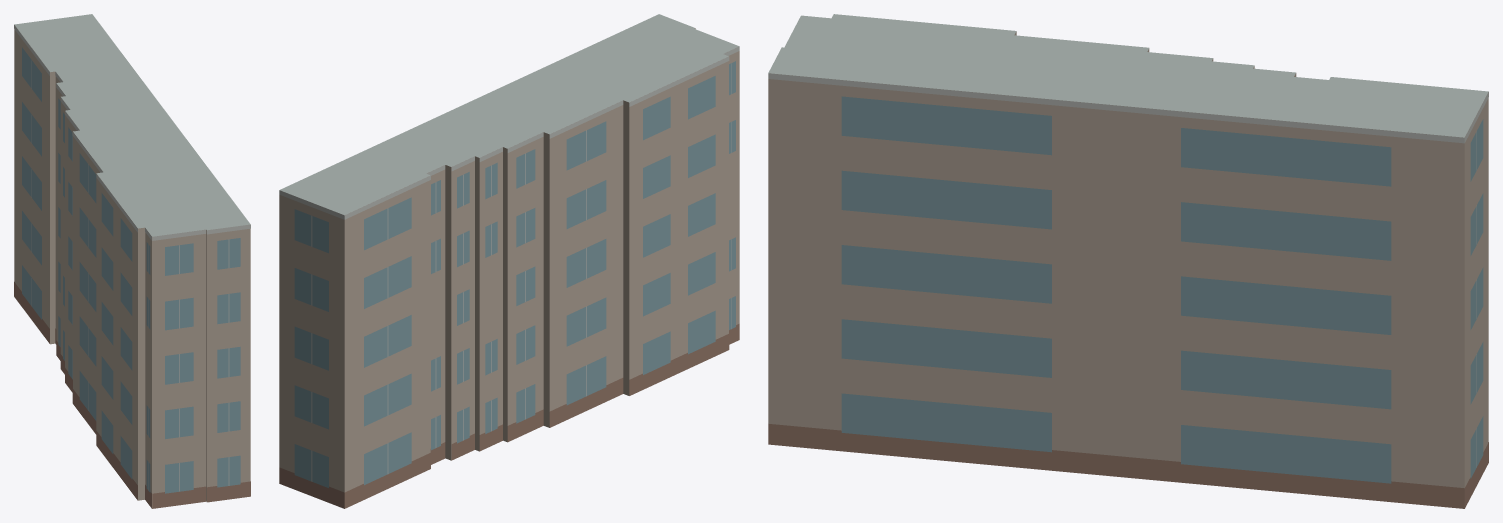
The model's file is survey-upis-32619796.glb.
3 renders of one model, left to right at view 1: azimuth 30°, elevation 25°; view 2: azimuth 150°, elevation 25°; view 3: azimuth 270°, elevation 25°, orthographic. The views are drawn at different scales.
Visible parts, largest first — view 1: survey-upis-32619796.tmp; view 2: survey-upis-32619796.tmp; view 3: survey-upis-32619796.tmp.
Boxes of the visible parts, x1,y1,x2,y2 form: survey-upis-32619796.tmp: [14, 14, 250, 508]; survey-upis-32619796.tmp: [279, 14, 739, 508]; survey-upis-32619796.tmp: [768, 14, 1488, 508].
Size of the model in its own units: 11.29 by 15.8 by 27.8.
